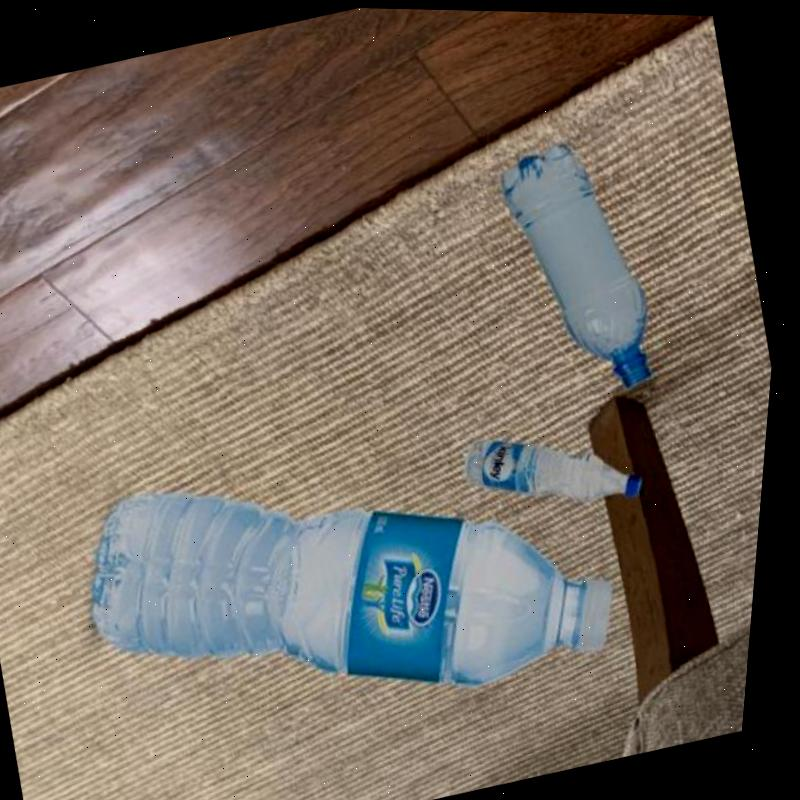botella: (60, 375, 653, 771), (481, 125, 681, 406), (458, 394, 656, 529)
